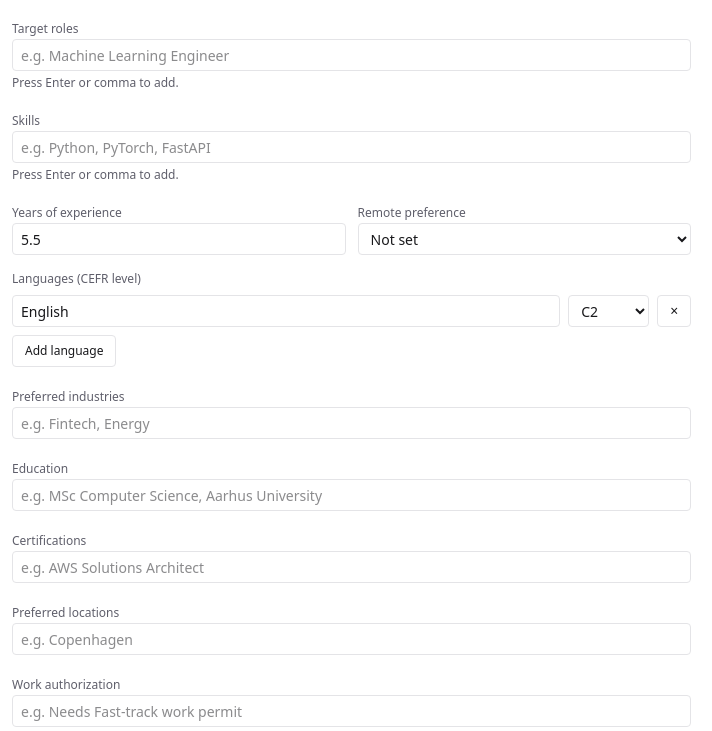
Test: ProfileForm save feedback › shows Saved and adopts the server's cleaned values
Type "SQL" into the field labelled "Skills" at coordinates (352, 147), box [12,131,691,163]
Then press Enter
(page scrolled)
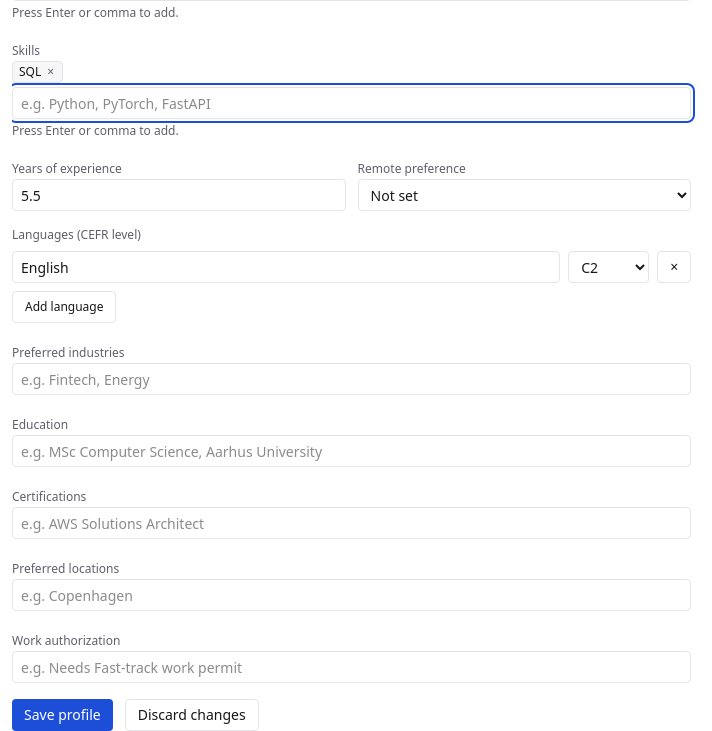
Click the button "Save profile" at coordinates (62, 715), box [12,699,113,730]
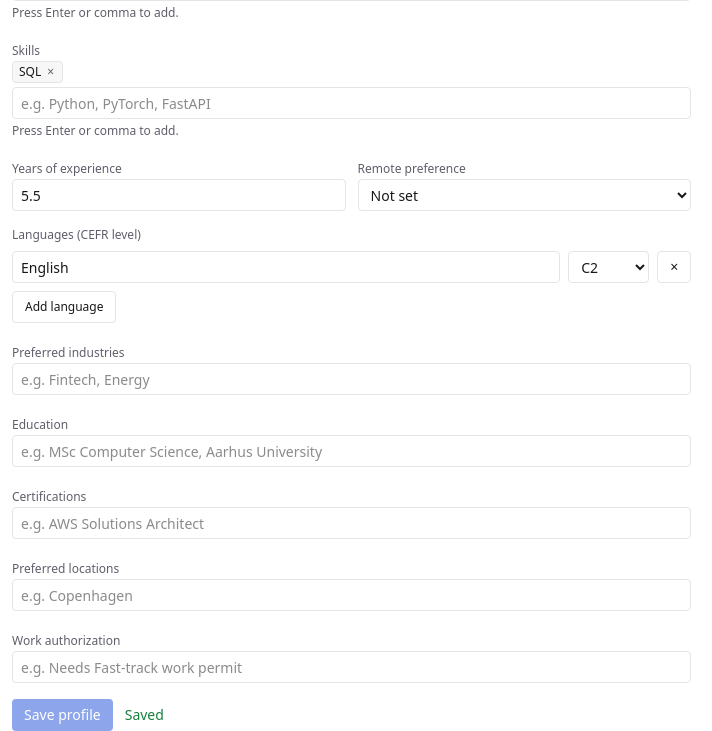
Check: the text "Saved" is shown, box [125,705,164,724]
Check: the button "Save profile" is disabled, box [12,699,113,730]
